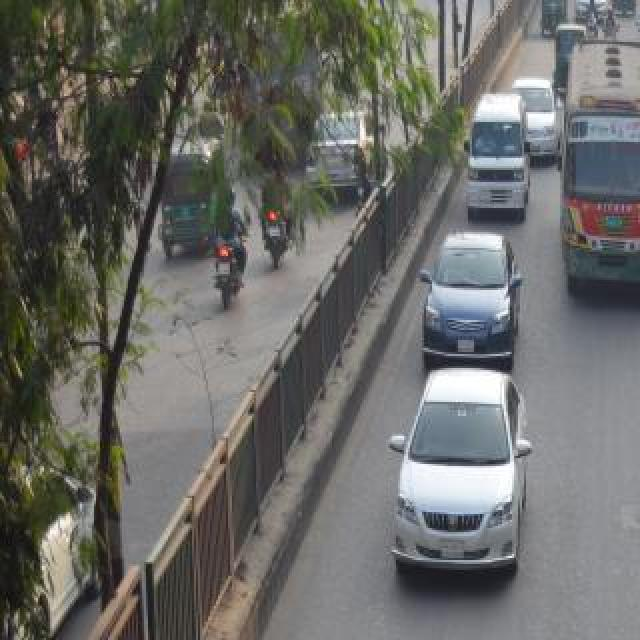bus: (558, 76, 640, 292)
car: (387, 367, 533, 589), (404, 217, 522, 359), (309, 115, 391, 191), (526, 73, 558, 153)
motorbike: (256, 154, 300, 282), (210, 187, 250, 315), (584, 0, 602, 46), (601, 5, 621, 37), (636, 2, 640, 46)
van: (449, 102, 533, 218)
